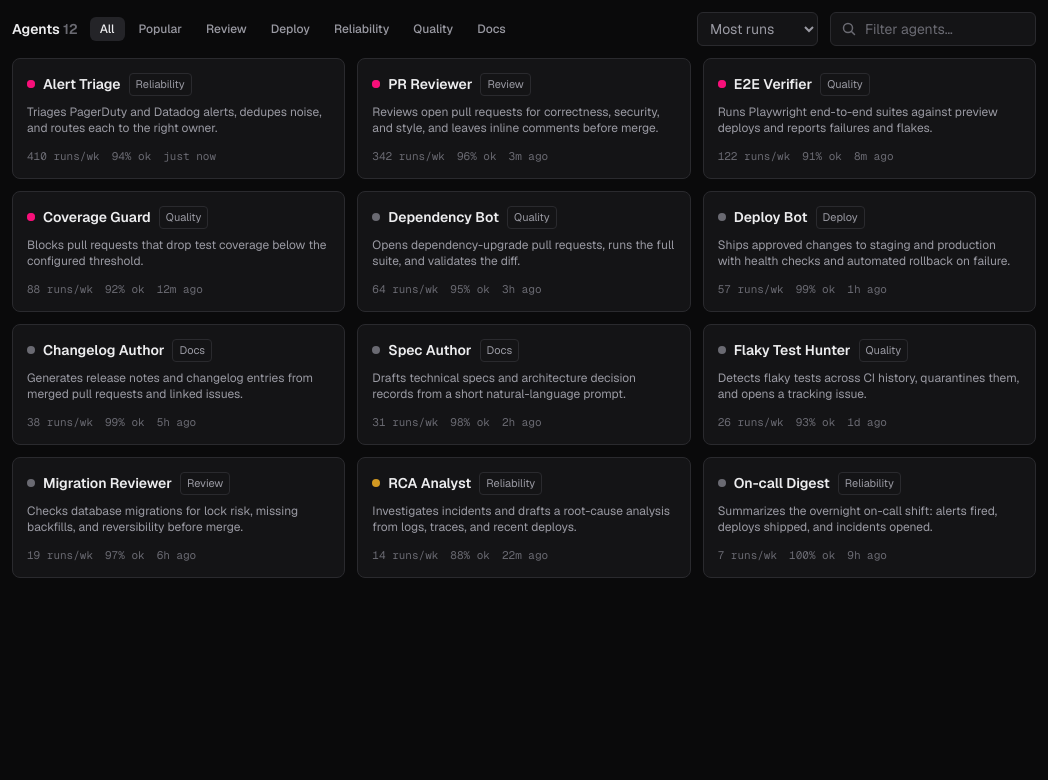
it: <AgentGrid /> › shows an empty state when nothing matches
Type "zzznotanagent" into the field labelled "Filter agents" at (945, 29), box [865, 19, 1025, 39]
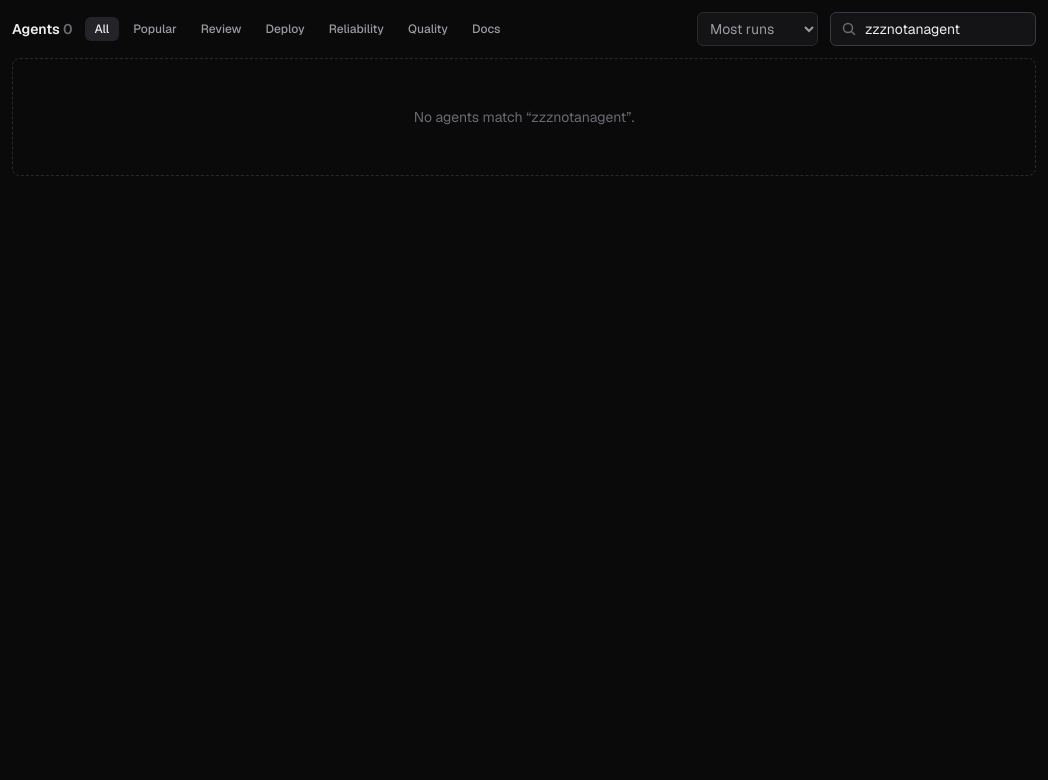
Expected: the text "No agents match “zzznotanagent”." is shown, [12, 58, 1036, 176]
